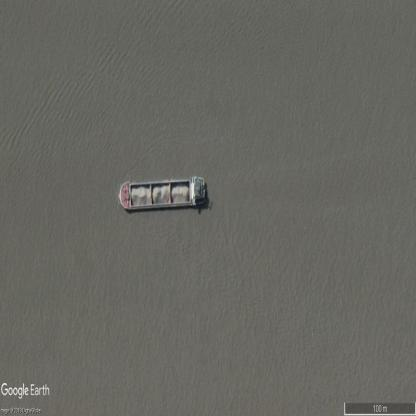ship: (119, 176, 210, 208)
